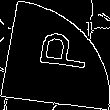P_W: (24, 32, 86, 78)
